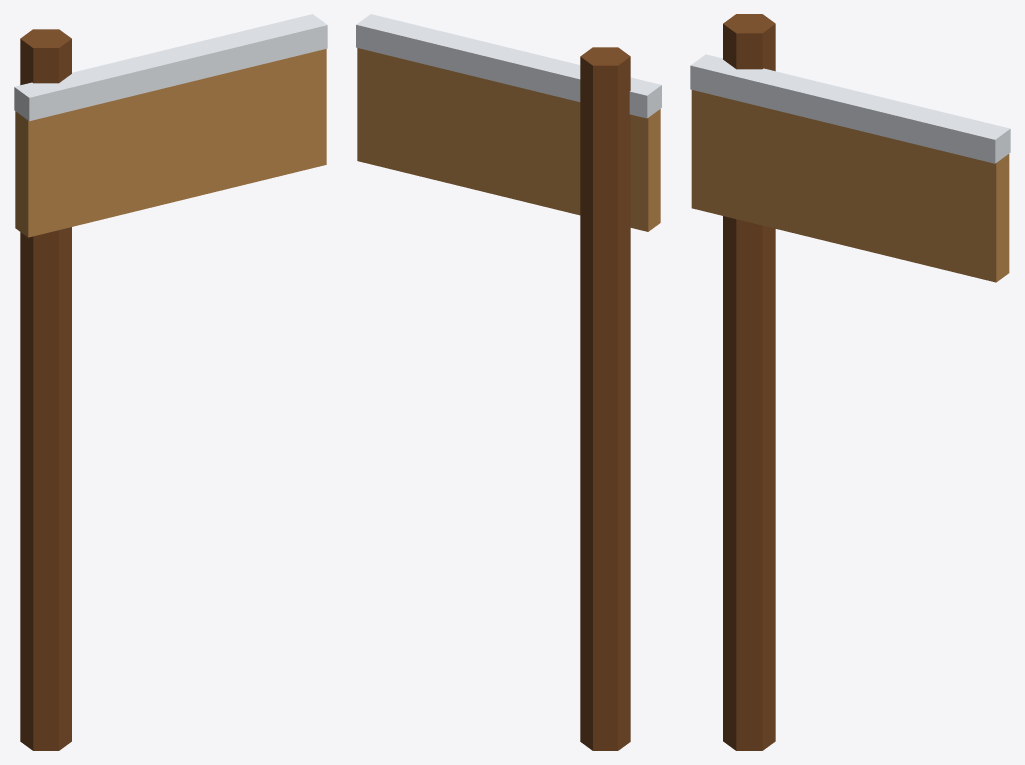
Rendered from signpost_snow.glb.
The picture shows the model from 3 angles, left to right: view 1: azimuth 30°, elevation 25°; view 2: azimuth 150°, elevation 25°; view 3: azimuth 330°, elevation 25°; orthographic projection. The views are drawn at different scales.
Visible parts, largest first — view 1: signpost_snow; view 2: signpost_snow; view 3: signpost_snow.
Part boxes in pixels (x1,y1,x2,y2): signpost_snow: [14, 14, 327, 750]; signpost_snow: [356, 14, 661, 750]; signpost_snow: [690, 14, 1010, 750].
Size of the model in its own units: 0.8 by 1.8 by 0.155.
